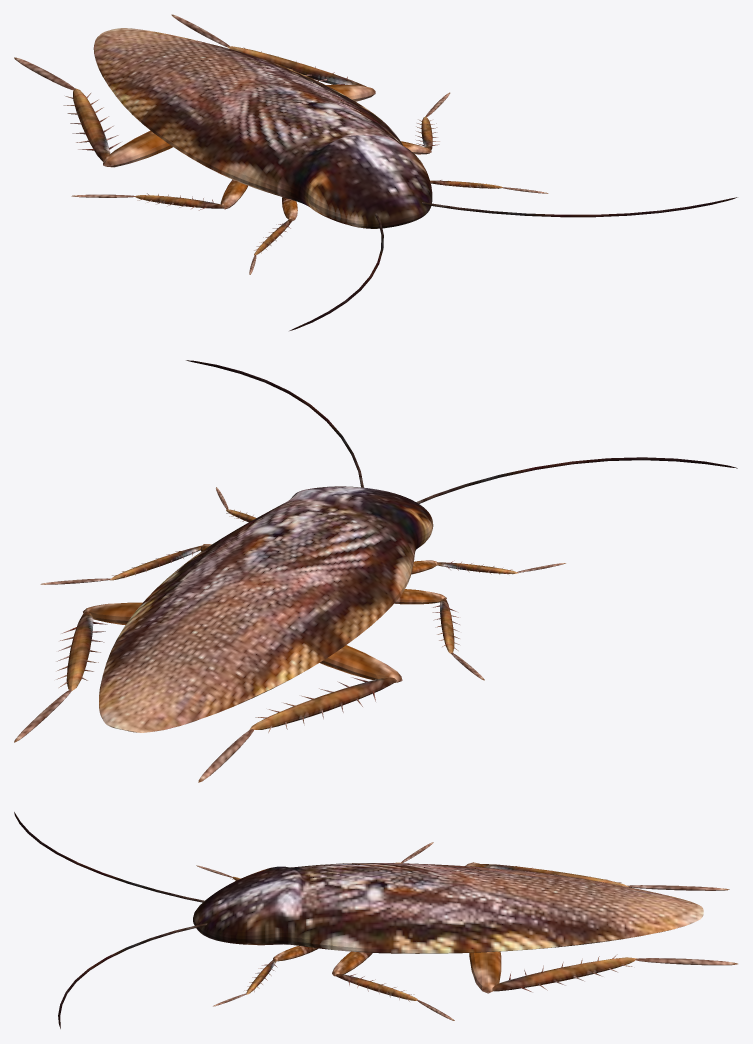
File: cockroach.fbx
3 views of the same model, one above another, from view 1: azimuth 30°, elevation 25°; view 2: azimuth 150°, elevation 25°; view 3: azimuth 270°, elevation 25° (orthographic). The views are drawn at different scales.
Parts seen in each view (by area): view 1: 0obj1; view 2: 0obj1; view 3: 0obj1.
Boxes of the visible parts, box(x1,y1,x2,y2) form: 0obj1: box(14, 14, 737, 330); 0obj1: box(14, 360, 737, 782); 0obj1: box(14, 812, 737, 1028).
Bounding box in the file's own units: 0.4309 × 0.0555 × 0.605.
1 material, 1 textured.
